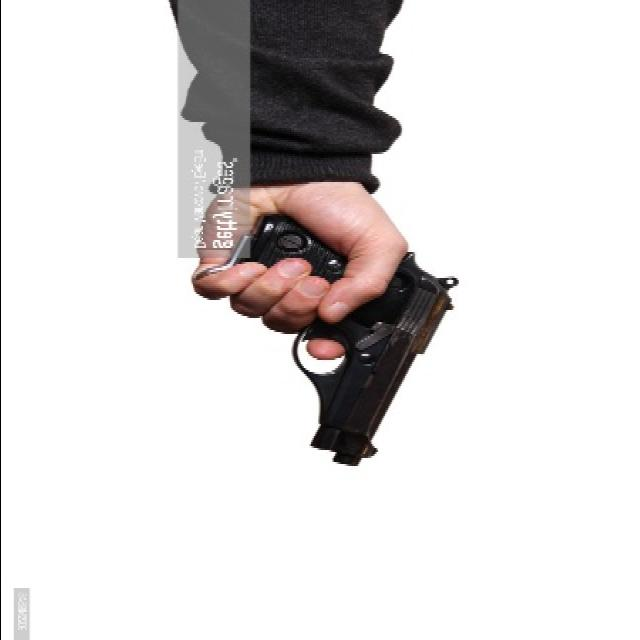handgun: (247, 211, 463, 477)
